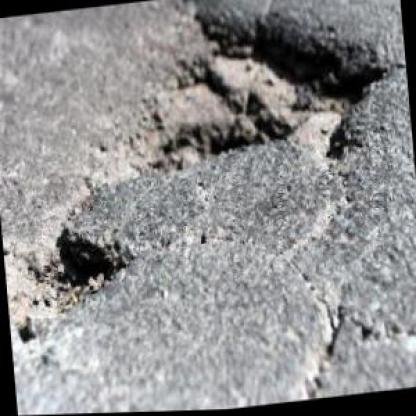pothole: (103, 0, 398, 196)
